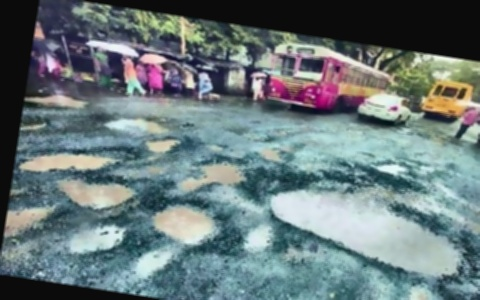pothole: (260, 176, 475, 281), (16, 130, 138, 188), (176, 150, 254, 202), (55, 170, 140, 216), (150, 196, 226, 247), (66, 215, 132, 264), (5, 198, 60, 242), (131, 239, 179, 283), (103, 109, 171, 138), (394, 278, 465, 300), (241, 219, 278, 255), (141, 130, 186, 158), (261, 139, 299, 164), (372, 159, 411, 176)
